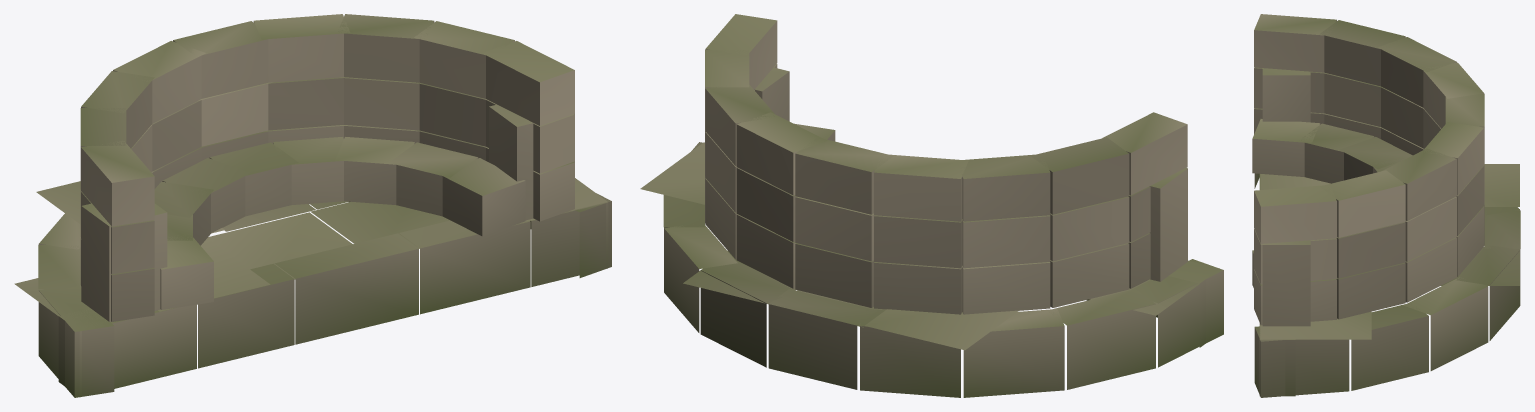
The model's file is tombs_exedra_mid.glb.
The picture shows the model from 3 angles, left to right: view 1: azimuth 30°, elevation 25°; view 2: azimuth 150°, elevation 25°; view 3: azimuth 270°, elevation 25°; orthographic projection. The views are drawn at different scales.
Parts seen in each view (by area): view 1: tombs_exedra_mid; view 2: tombs_exedra_mid; view 3: tombs_exedra_mid.
Part boxes in pixels (<box>): tombs_exedra_mid: <box>14,14,611,397</box>; tombs_exedra_mid: <box>640,14,1223,397</box>; tombs_exedra_mid: <box>1252,14,1520,397</box>.
Bounding box in the file's own units: 17.66 × 6.47 × 8.95.
